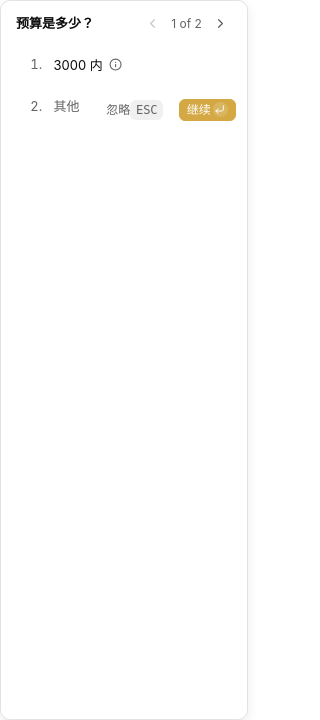
PendingActionSurface › advances to the next AskUserQuestion after selecting a single-choice option
Click the radio button labelled "3000 内": (76, 64) x1=30 y1=56 x2=122 y2=72
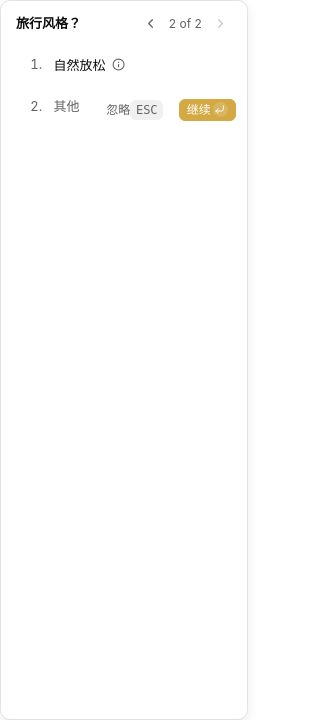
Check: the text "旅行风格？" is shown, box x1=16 y1=12 x2=81 y2=35
Check: the text "2 of 2" is shown, box x1=169 y1=16 x2=202 y2=32
Click the button named "上一题": (150, 24) x1=139 y1=12 x2=161 y2=35
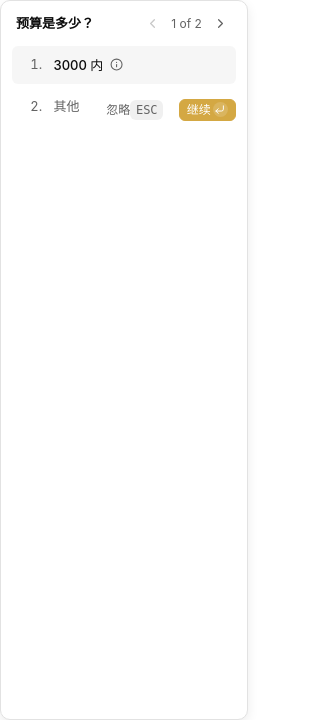
Check: the radio button labelled "3000 内" is checked, box x1=12 y1=46 x2=236 y2=84
